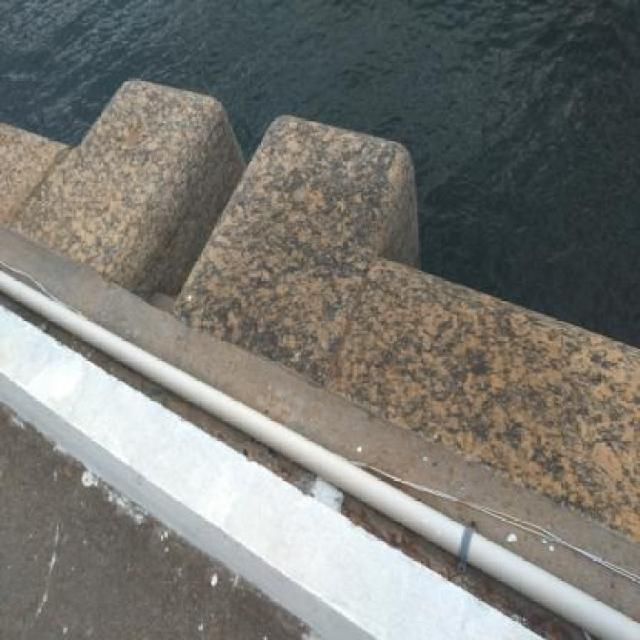gas: (7, 276, 628, 638)
